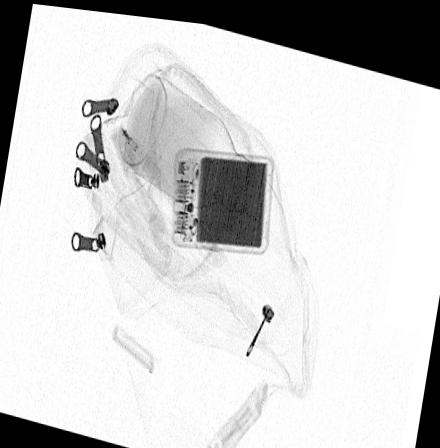Powerbank: (170, 141, 274, 249)
